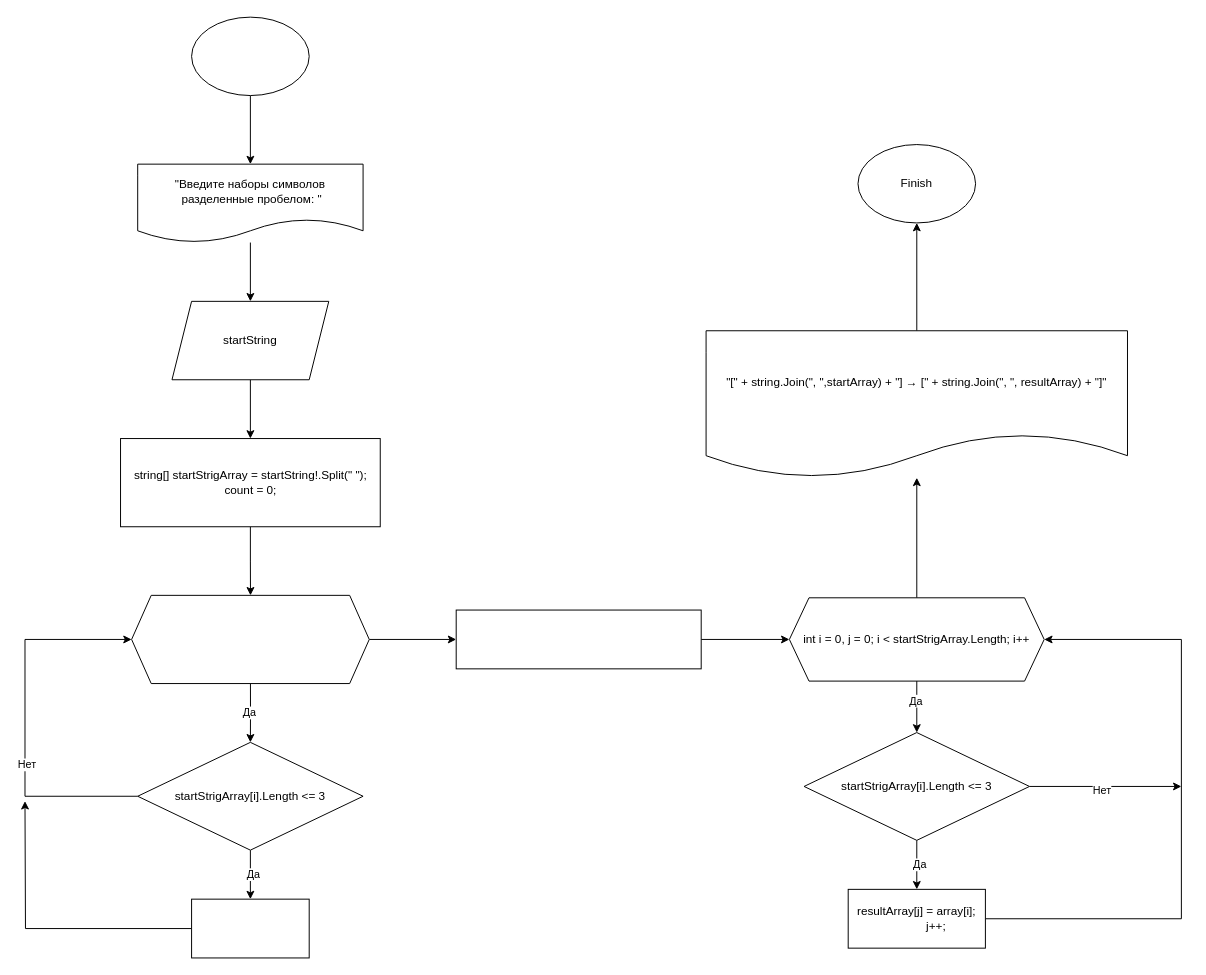
Image size: 1206x975. Some labels were removed from this diagram. Here are the shapes that lost their labels. From the top down, the centre of each, then its label:
(250,56): Start
(250,639): int i = 0; i < startStrigArray.Length; i++
(578,639): string[] resultArray = new string[count]
(250,928): Count++
